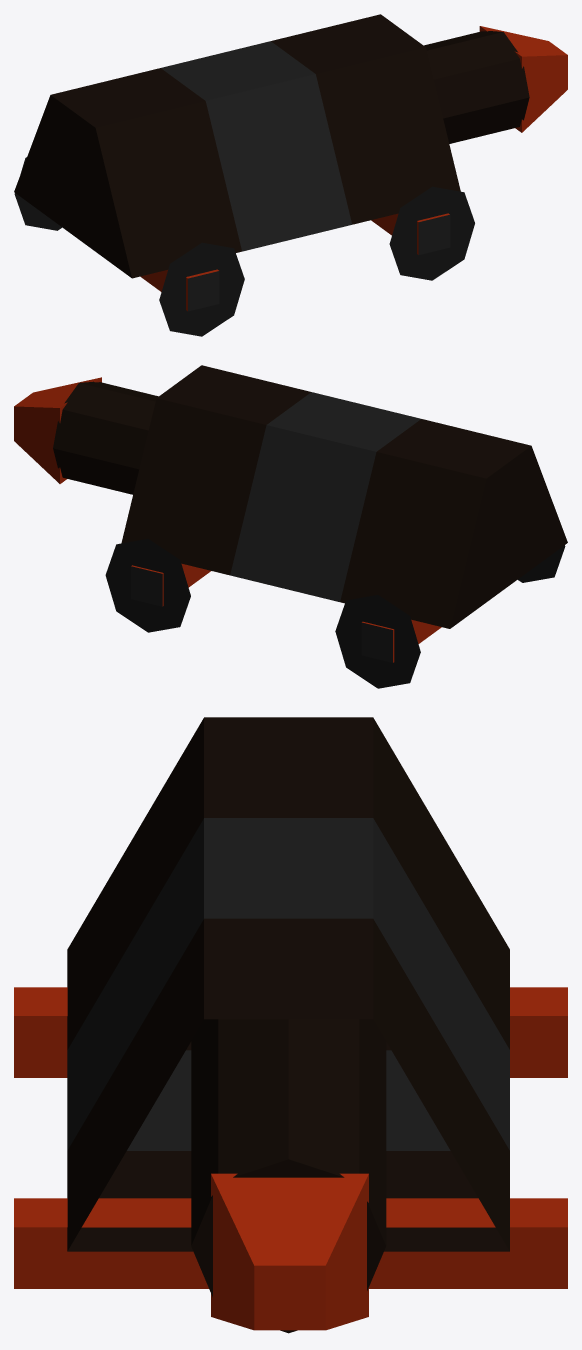
File: heavybatteringram2f.obj
The picture shows the model from 3 angles, top to bottom: view 1: azimuth 30°, elevation 25°; view 2: azimuth 150°, elevation 25°; view 3: azimuth 270°, elevation 25°; orthographic projection. The views are drawn at different scales.
Visible parts, largest first — view 1: Cube, Plane.003, Plane.002, Cube.003, Cube.002, Cube.001, Plane.001; view 2: Cube, Plane, Plane.001, Cube.003, Cube.002, Cube.001, Plane.002; view 3: Cube, Cube.001, Cube.003, Cube.002.
Part boxes in pixels (box(x1,y1,x2,y2)): Cube: box(14, 14, 529, 278); Plane.003: box(389, 186, 474, 280); Plane.002: box(159, 242, 244, 336); Cube.003: box(479, 26, 567, 132); Cube.002: box(140, 269, 219, 311); Cube.001: box(371, 213, 450, 254); Plane.001: box(14, 157, 61, 230); Cube: box(53, 365, 567, 628); Plane: box(105, 539, 190, 632); Plane.001: box(335, 595, 420, 688); Cube.003: box(14, 377, 101, 483); Cube.002: box(361, 619, 441, 662); Cube.001: box(131, 563, 210, 606); Plane.002: box(518, 545, 565, 582); Cube: box(67, 717, 509, 1333); Cube.001: box(14, 1198, 567, 1288); Cube.003: box(211, 1173, 368, 1330); Cube.002: box(14, 987, 567, 1077).
Size of the model in its own units: 11.32 by 4.17 by 5.96.
